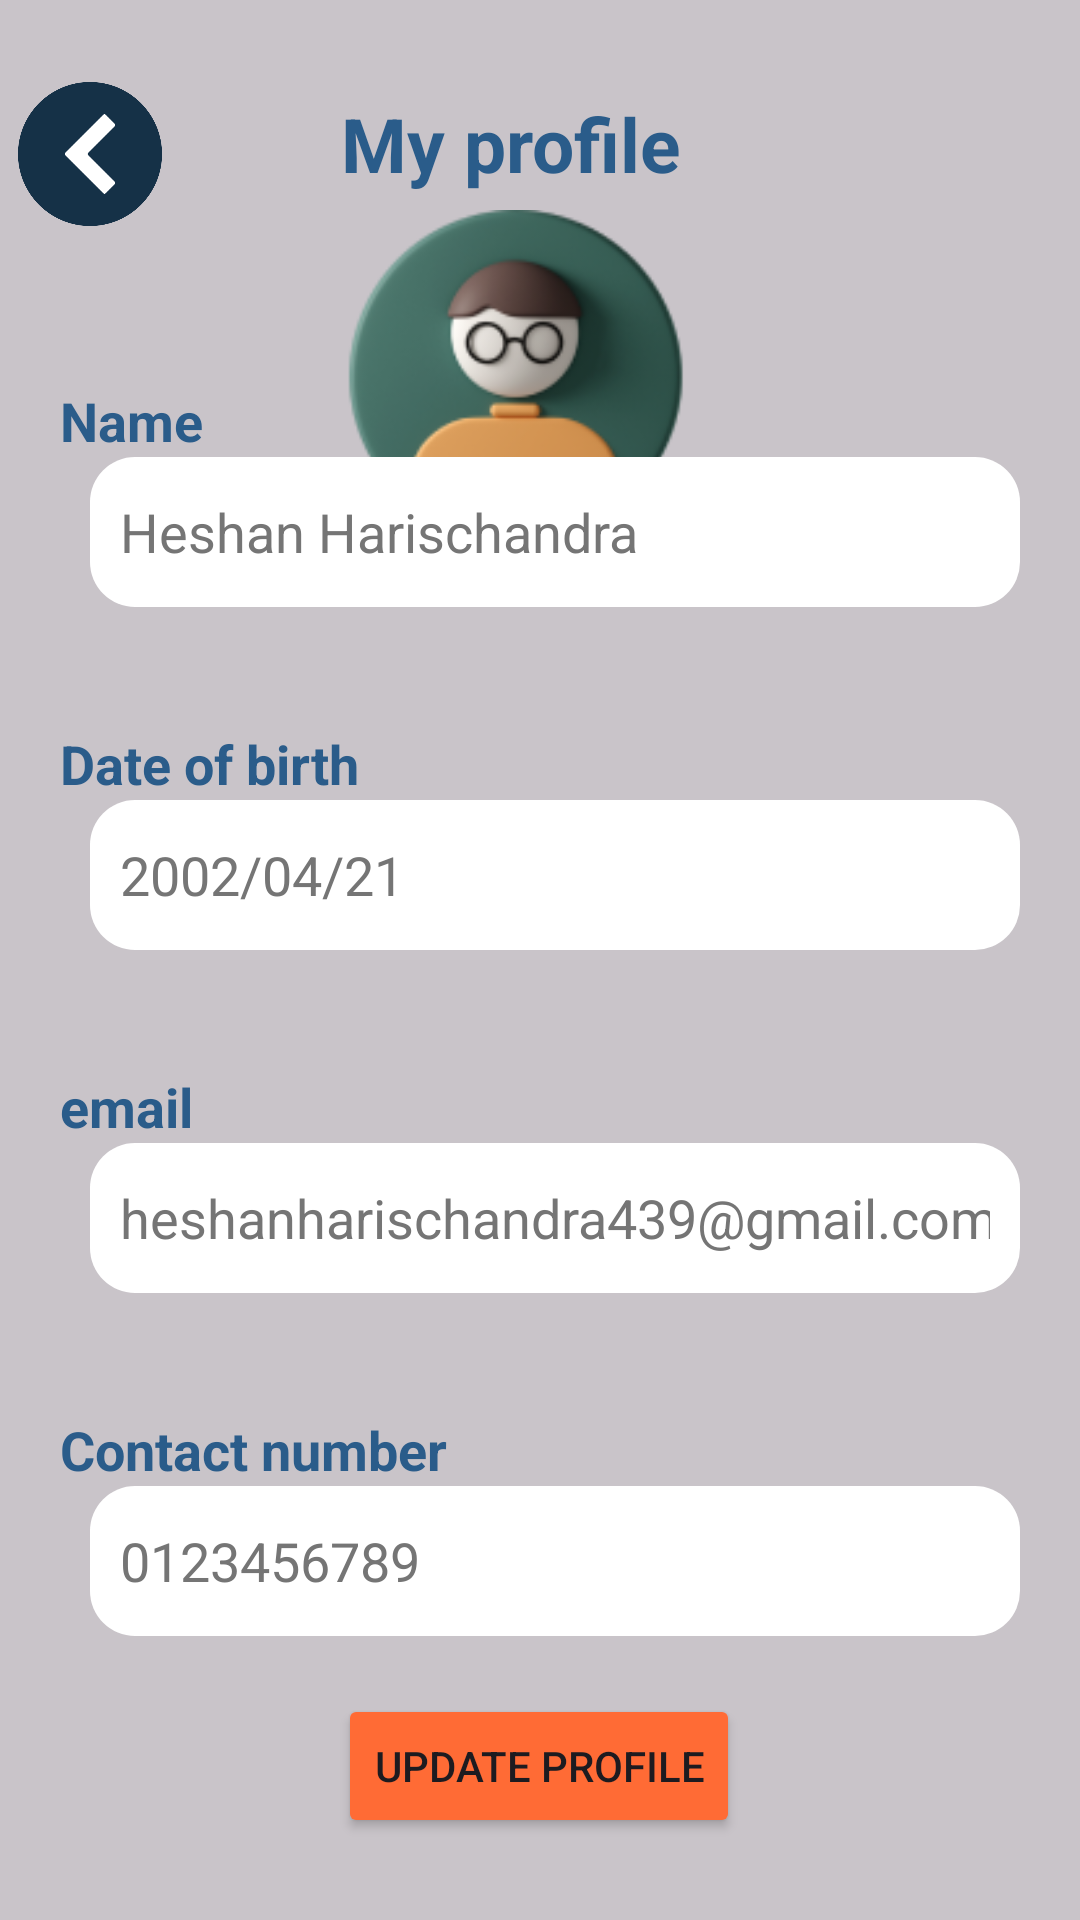

Icon bounding boxes for this 1080*1920 phone screenshot, format (x1, y1, x2, y2):
Go back: (18, 82, 162, 226)
